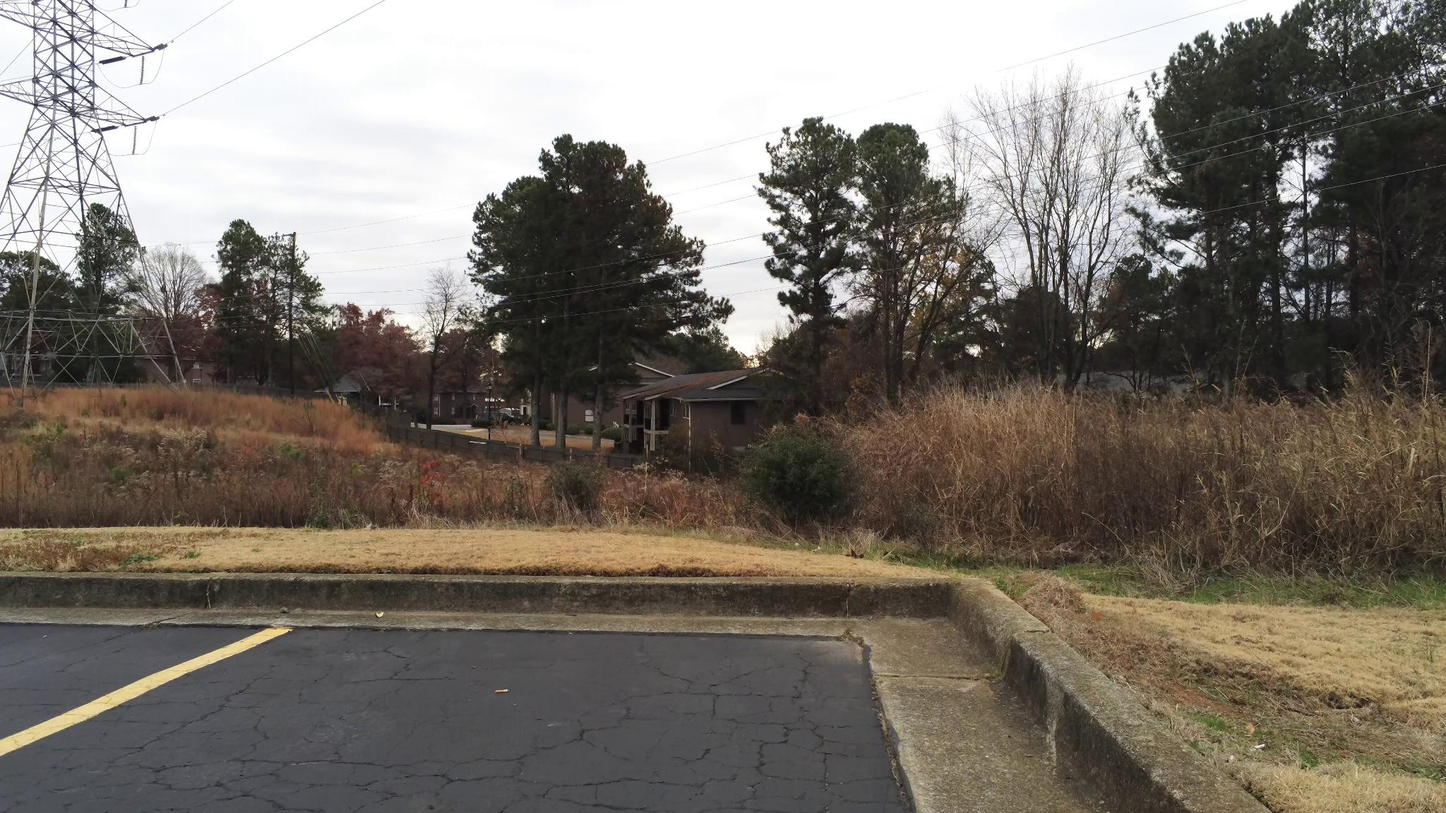tower: (0, 0, 200, 401)
